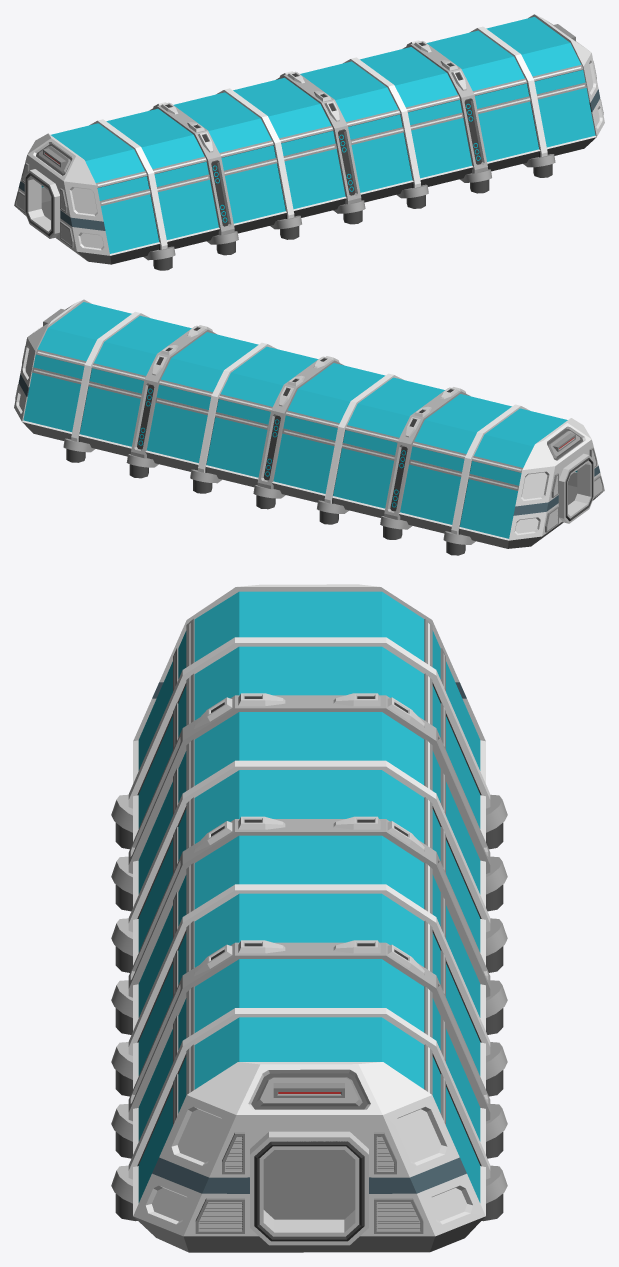
Rendered from section_002.fbx.
3 views of the same model, one above another, from view 1: azimuth 30°, elevation 25°; view 2: azimuth 150°, elevation 25°; view 3: azimuth 270°, elevation 25° (orthographic). The views are drawn at different scales.
Parts seen in each view (by area): view 1: section_002; view 2: section_002; view 3: section_002.
Part boxes in pixels (x1,y1,x2,y2): section_002: [14, 14, 604, 270]; section_002: [14, 299, 604, 555]; section_002: [111, 584, 507, 1252].
Size of the model in its own units: 3420 by 1085 by 625.
